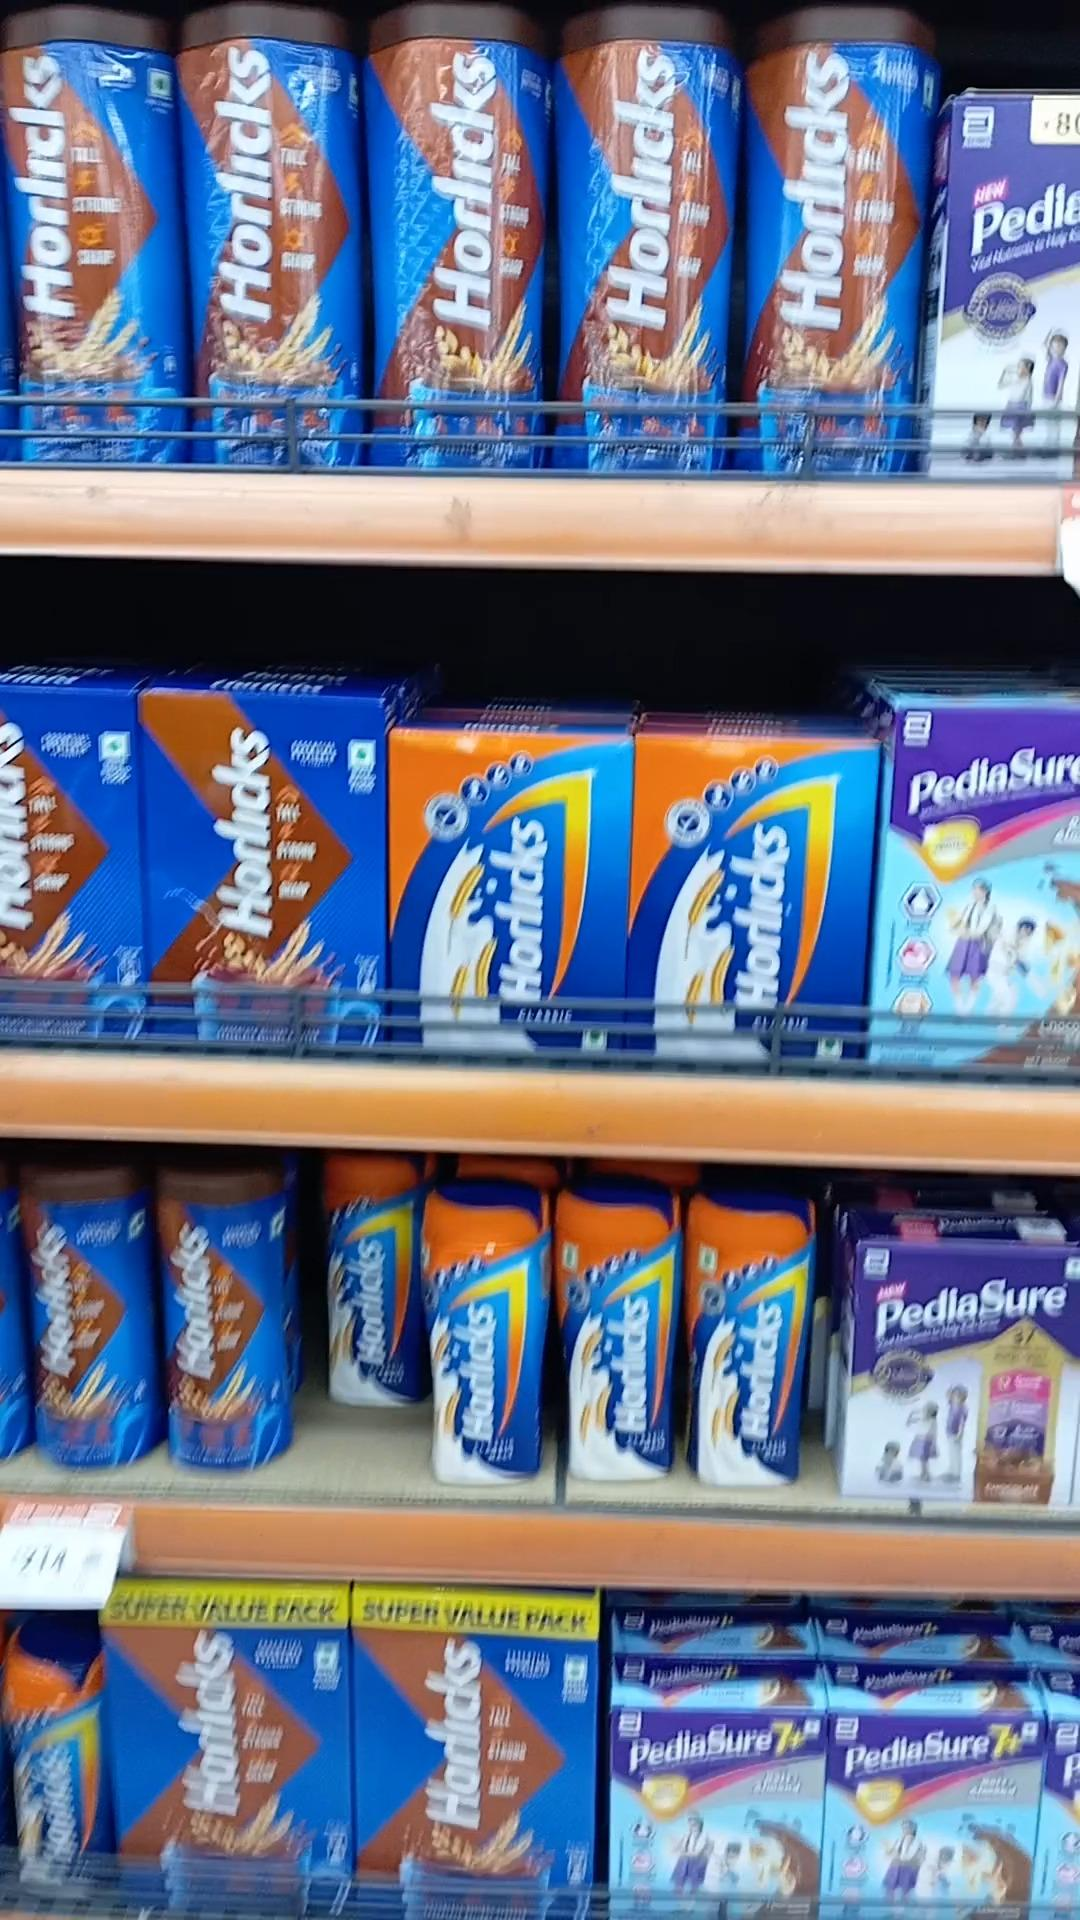COMPLAN_CHOCOLATE_1_KG_PACK: (108, 1584, 347, 1907), (363, 1590, 591, 1920)
HORLICK_CHOCOLATE_1_KG_JAR: (554, 3, 732, 467), (746, 0, 919, 476), (7, 3, 178, 465), (377, 0, 547, 465), (193, 7, 360, 463)
HORLICK_CHOCOLATE_500_G_JAR: (157, 1153, 291, 1469), (24, 1168, 149, 1462)
HORLICK_CHOCOLATE_500_G_PACK: (148, 682, 377, 1047)
HORLICK_CLASSIC_MALT_500_G_JAR: (841, 1241, 1073, 1503), (686, 1187, 810, 1478), (558, 1183, 674, 1486), (433, 1188, 541, 1480), (320, 1149, 419, 1408)
HORLICK_CLASSIC_MALT_500_G_PACK: (641, 732, 870, 1065), (393, 731, 629, 1054)
PEDIASURE_7_PLUS_CHOCOLATE_400_G_PACK: (615, 1706, 814, 1920), (828, 1712, 1021, 1920)
